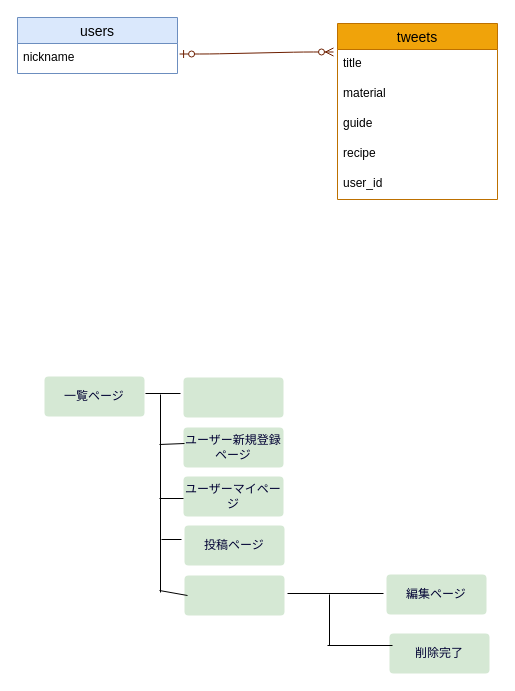
This 515x691 diagram has some shape labels left out. Each missing label, with the centre of its shape:
ユーザーログインページ: point 233,397
詳細ページ: point 234,595
